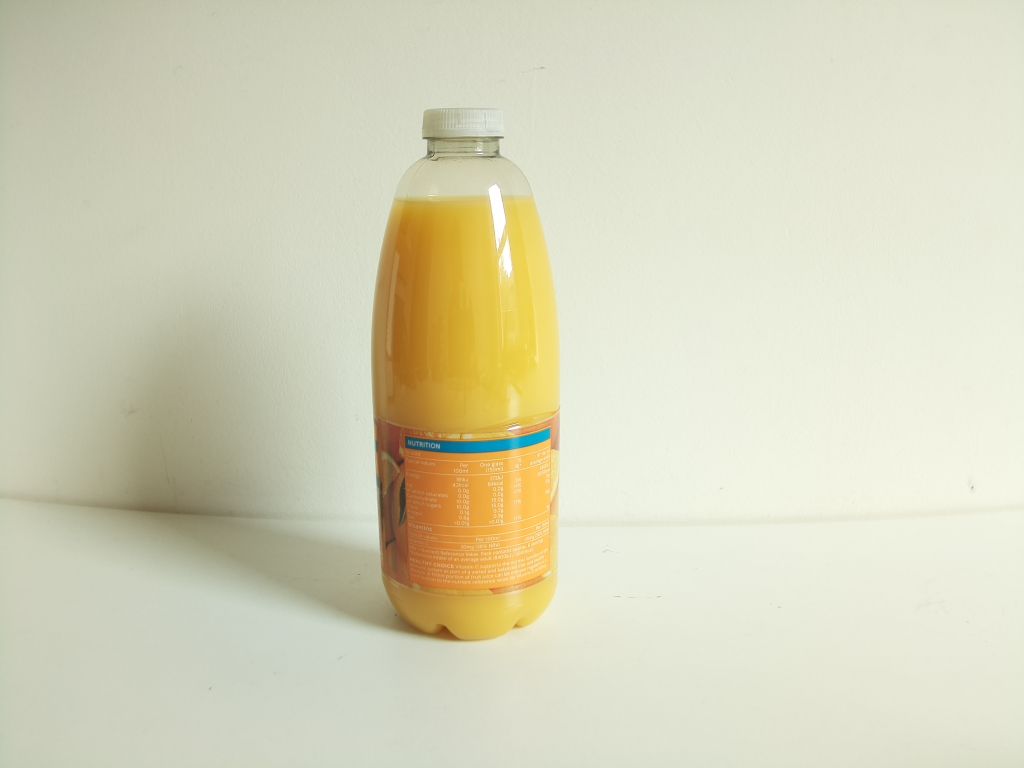juice: (370, 98, 568, 656)
